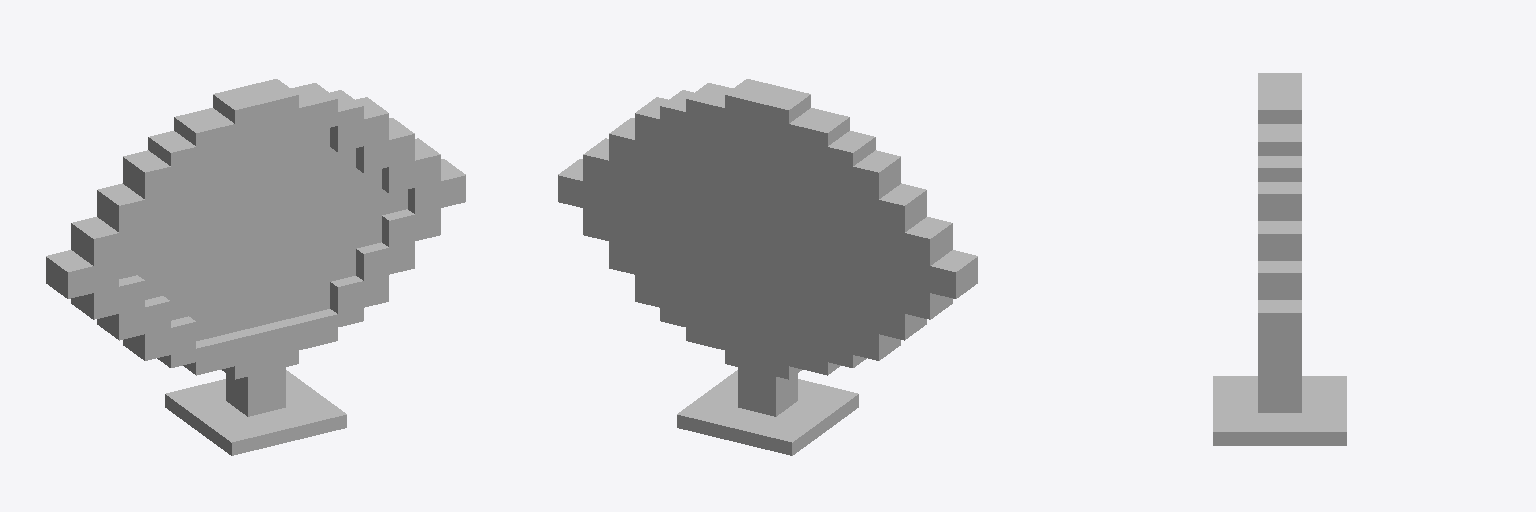
Rendered from Game_monitor3.obj.
The picture shows the model from 3 angles: view 1: azimuth 30°, elevation 25°; view 2: azimuth 150°, elevation 25°; view 3: azimuth 270°, elevation 25°; orthographic projection.
Visible parts, largest first — view 1: monitor3; view 2: monitor3; view 3: monitor3.
Part boxes in pixels (bbox=[...]): monitor3: bbox=[46, 79, 465, 455]; monitor3: bbox=[558, 79, 977, 455]; monitor3: bbox=[1213, 73, 1346, 445].
Bounding box in the file's own units: 3.1 × 2.4 × 0.9.